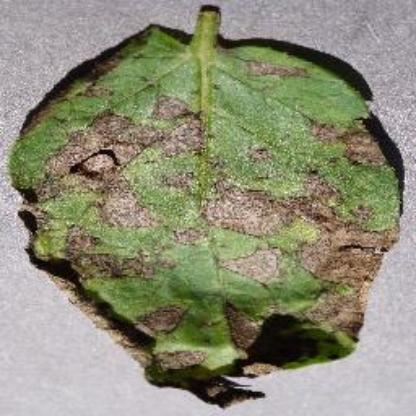Early-Blight: (8, 9, 408, 405)
